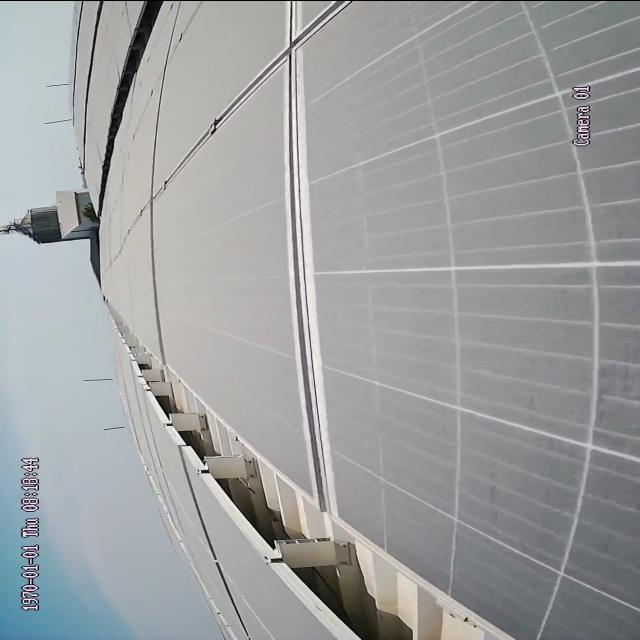interior panel: (161, 0, 359, 490)
outher panel: (103, 301, 514, 640), (104, 0, 171, 169)
